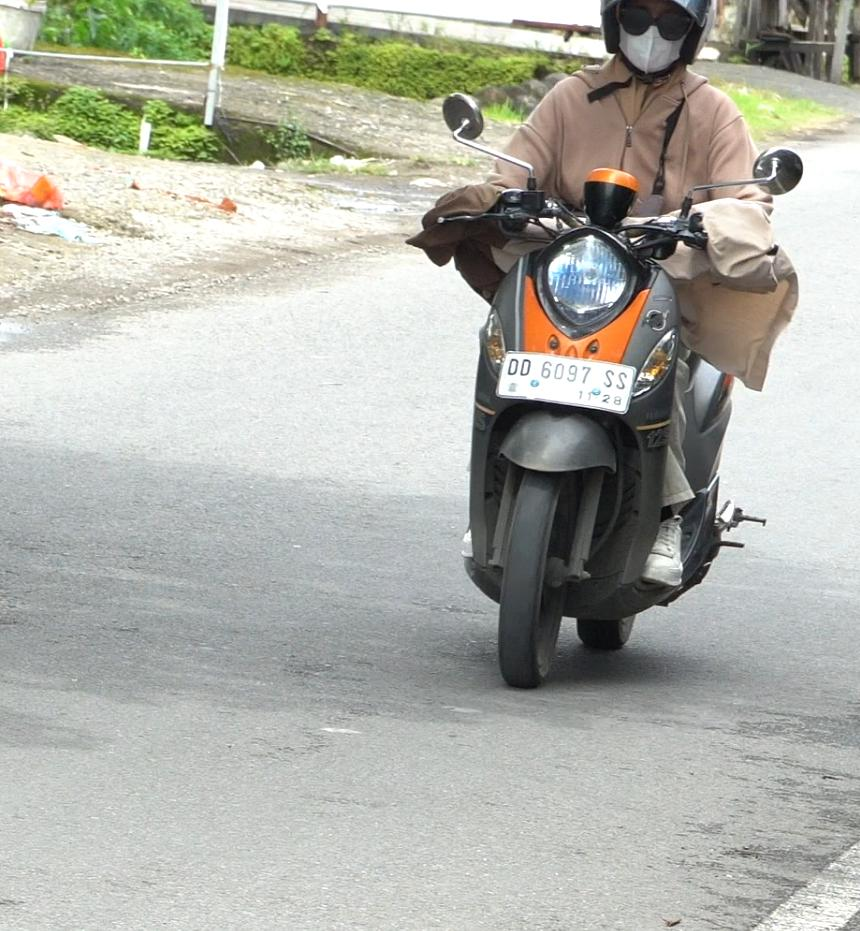number-plate: (495, 352, 633, 414)
